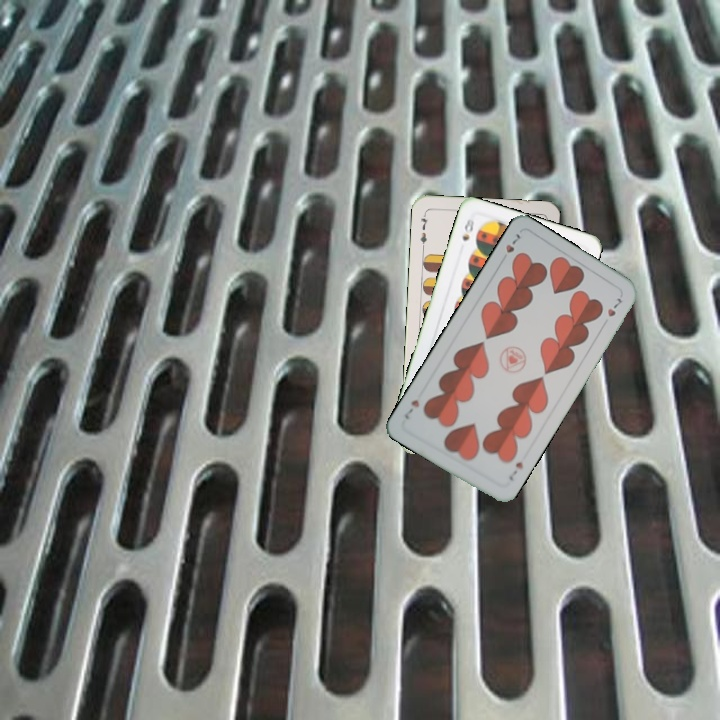E7: (416, 209, 431, 250)
H7: (498, 229, 523, 265), (504, 458, 525, 483)
S8: (458, 214, 477, 244)
